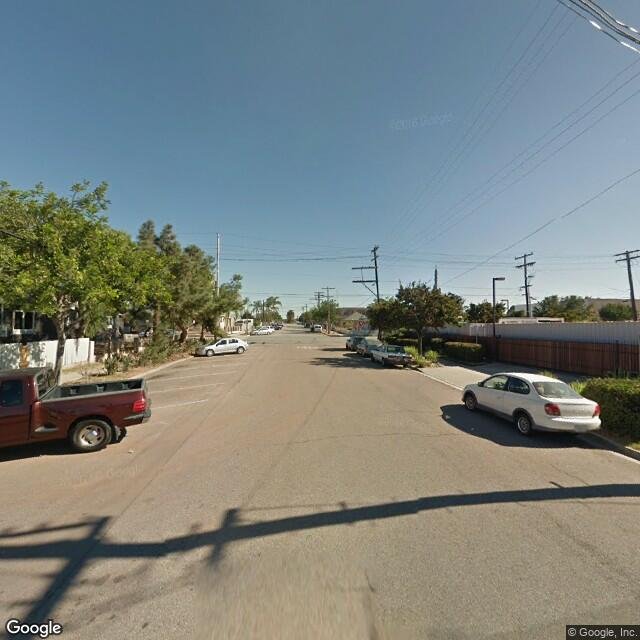litter: (119, 443, 137, 461)
